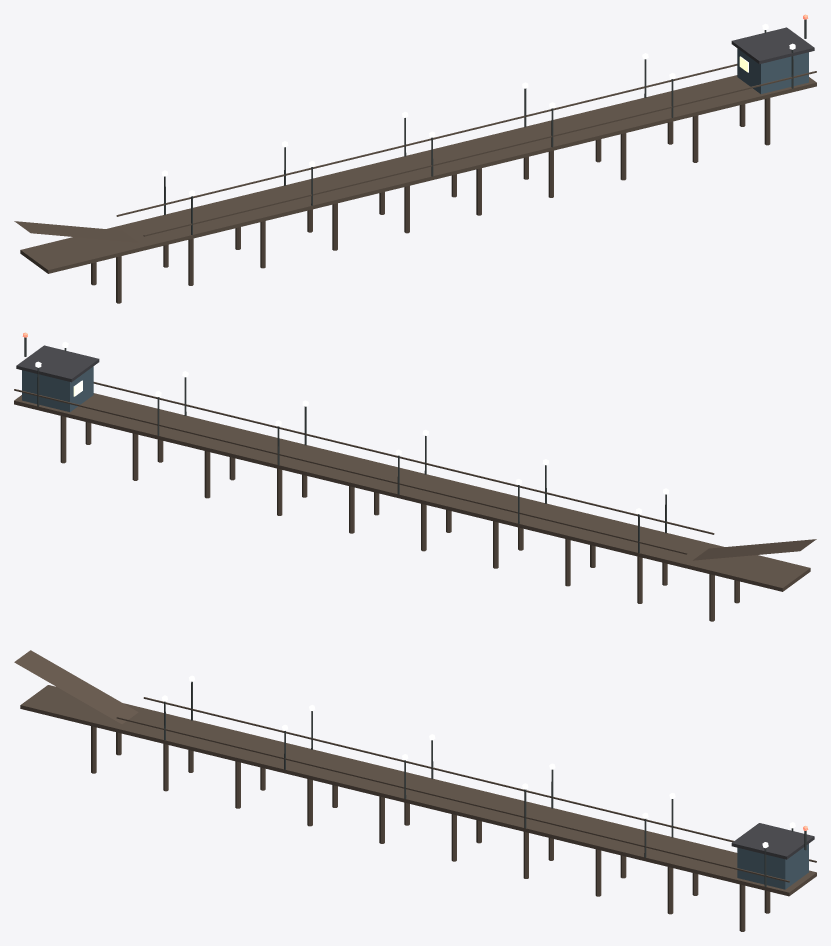
Rendered from pier.glb.
3 views of the same model, one above another, from view 1: azimuth 30°, elevation 25°; view 2: azimuth 150°, elevation 25°; view 3: azimuth 330°, elevation 25° (orthographic).
Visible parts, largest first — view 1: pier; view 2: pier; view 3: pier.
Part boxes in pixels (x1,y1,x2,y2): pier: (14, 14, 816, 303); pier: (14, 332, 816, 621); pier: (14, 650, 816, 931).
Bounding box in the file's own units: 65.4 × 8.62 × 4.34.
